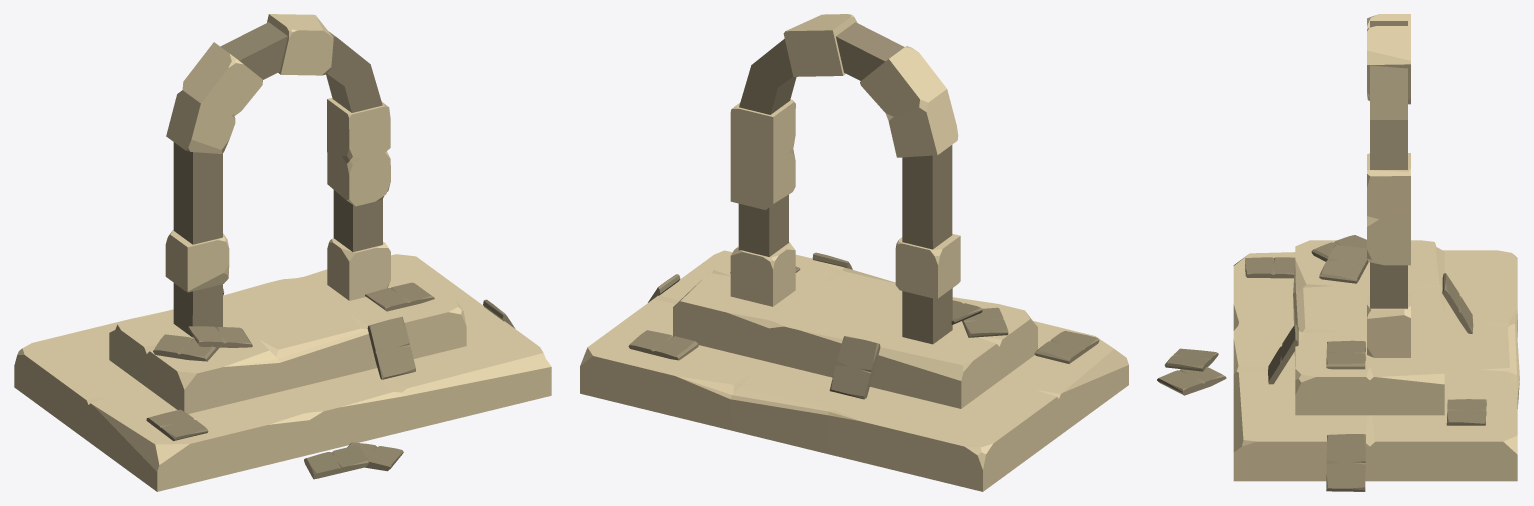
Rendered from Portal.fbx.
3 views of the same model, side by side, from view 1: azimuth 30°, elevation 25°; view 2: azimuth 150°, elevation 25°; view 3: azimuth 270°, elevation 25° (orthographic). The views are drawn at different scales.
Visible parts, largest first — view 1: Основание ниже, Кирпичи, Арка, Плитка.005, Плитка.008, Плитка.002, Плитка, Плитка.003, Плитка.001, Плитка.009; view 2: Основание ниже, Кирпичи, Арка, Плитка.006, Плитка.007, Плитка.003, Плитка; view 3: Основание ниже, Кирпичи, Арка, Плитка.004, Плитка.001, Плитка.009, Плитка.002, Плитка.007, Плитка.003, Плитка.008, Плитка.006, Плитка.005 (+1 smaller).
Boxes of the visible parts, x1,y1,x2,y2 form: Основание ниже: (14,254,551,491); Кирпичи: (165,14,390,300); Арка: (173,22,382,337); Плитка.005: (367,316,415,379); Плитка.008: (304,445,368,479); Плитка.002: (365,282,434,311); Плитка: (153,334,219,361); Плитка.003: (146,409,208,440); Плитка.001: (188,326,252,347); Плитка.009: (347,442,403,471); Основание ниже: (580,250,1128,491); Кирпичи: (730,14,960,306); Арка: (738,22,952,344); Плитка.006: (829,336,880,399); Плитка.007: (628,330,698,360); Плитка.003: (1034,331,1099,363); Плитка: (962,307,1008,337); Основание ниже: (1233,240,1519,481); Кирпичи: (1367,14,1410,357); Арка: (1370,21,1407,308); Плитка.004: (1326,434,1365,491); Плитка.001: (1319,245,1368,283); Плитка.009: (1157,367,1226,395); Плитка.002: (1326,340,1365,369); Плитка.007: (1446,399,1486,425); Плитка.003: (1245,257,1295,278); Плитка.008: (1164,348,1218,371); Плитка.006: (1442,273,1473,333); Плитка.005: (1268,324,1298,384).
Bounding box in the file's own units: 644 × 535 × 486.
